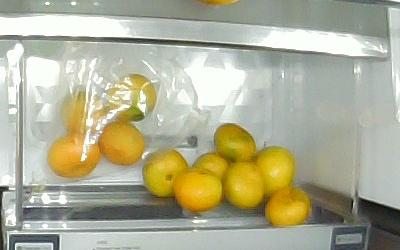tangerine: (143, 148, 189, 197), (173, 168, 222, 212), (222, 163, 267, 210), (266, 187, 313, 227), (213, 123, 258, 163), (257, 146, 296, 190), (191, 151, 229, 184)
tangerine_vinyl: (107, 74, 156, 123), (49, 134, 99, 179), (62, 90, 106, 132), (100, 123, 142, 165)
